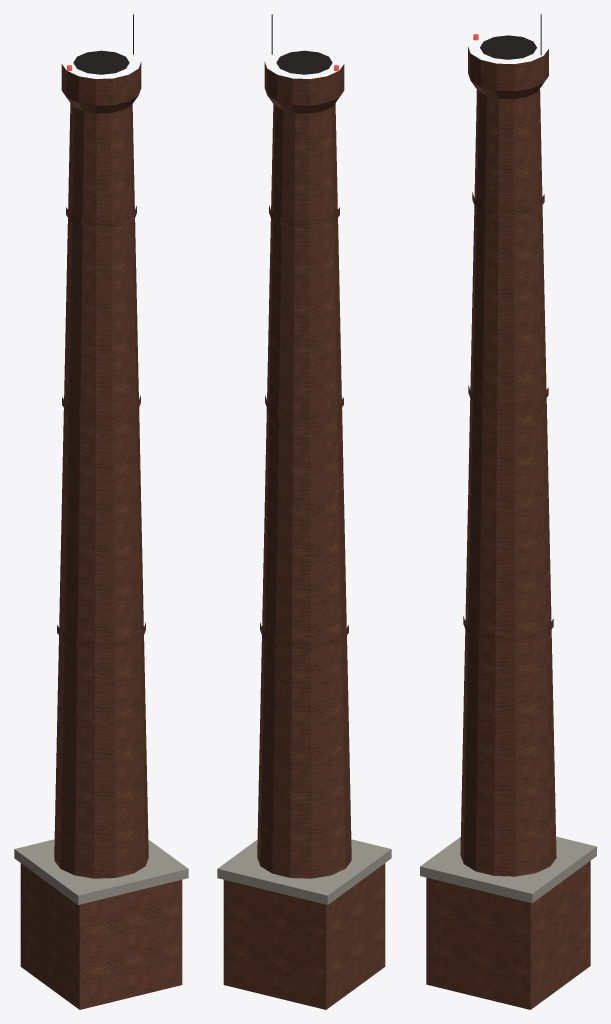
Rendered from town_mill_stack 2.gltf.
The picture shows the model from 3 angles, left to right: view 1: azimuth 30°, elevation 25°; view 2: azimuth 150°, elevation 25°; view 3: azimuth 330°, elevation 25°; orthographic projection.
Parts seen in each view (by area): view 1: TownMillStack_Shaft, TownMillStack_Base, TownMillStack_BaseCap, TownMillStack_Crown, TownMillStack_Bands, TownMillStack_Flue; view 2: TownMillStack_Shaft, TownMillStack_Base, TownMillStack_BaseCap, TownMillStack_Crown, TownMillStack_Bands, TownMillStack_Flue; view 3: TownMillStack_Shaft, TownMillStack_Base, TownMillStack_BaseCap, TownMillStack_Crown, TownMillStack_Bands, TownMillStack_Flue.
Boxes of the visible parts, x1,y1,x2,y2 form: TownMillStack_Shaft: (54, 103, 148, 878); TownMillStack_Base: (20, 863, 182, 1009); TownMillStack_BaseCap: (14, 839, 188, 904); TownMillStack_Crown: (61, 62, 141, 113); TownMillStack_Bands: (57, 205, 145, 649); TownMillStack_Flue: (73, 50, 129, 74); TownMillStack_Shaft: (257, 103, 351, 878); TownMillStack_Base: (223, 863, 385, 1009); TownMillStack_BaseCap: (217, 839, 391, 904); TownMillStack_Crown: (264, 62, 344, 113); TownMillStack_Bands: (260, 205, 348, 649); TownMillStack_Flue: (276, 50, 332, 74); TownMillStack_Shaft: (460, 89, 556, 876); TownMillStack_Base: (426, 861, 590, 1009); TownMillStack_BaseCap: (420, 836, 596, 903); TownMillStack_Crown: (468, 47, 548, 99); TownMillStack_Bands: (463, 192, 553, 643); TownMillStack_Flue: (480, 35, 536, 59).
Size of what is drawn, in the model's own units: 4.3 by 35.5 by 4.3.
Materials: 2 (2 with a texture image).
